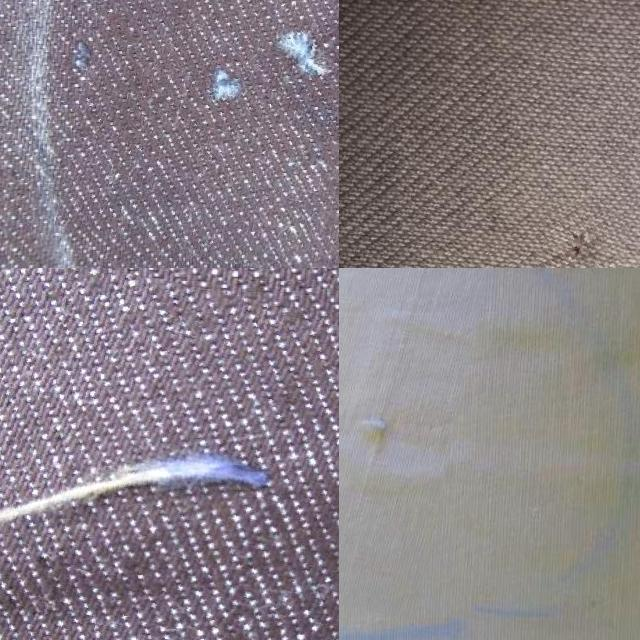other: (535, 201, 627, 268)
stains: (0, 268, 339, 640), (75, 0, 339, 268), (339, 268, 476, 613)
